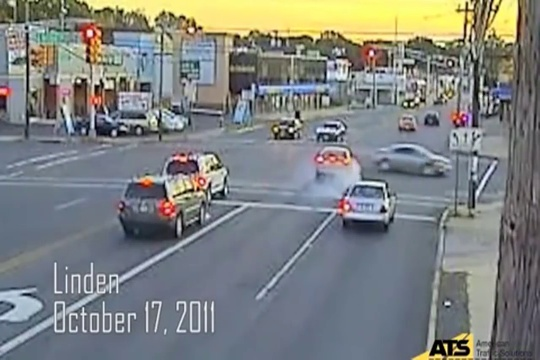car: (116, 172, 210, 244), (369, 141, 453, 176), (169, 151, 229, 199), (340, 181, 399, 225), (313, 141, 356, 170), (117, 108, 162, 132), (72, 114, 115, 139), (273, 118, 307, 141), (308, 123, 350, 141), (160, 109, 188, 132), (394, 112, 417, 135), (425, 110, 444, 126), (406, 99, 417, 108)
